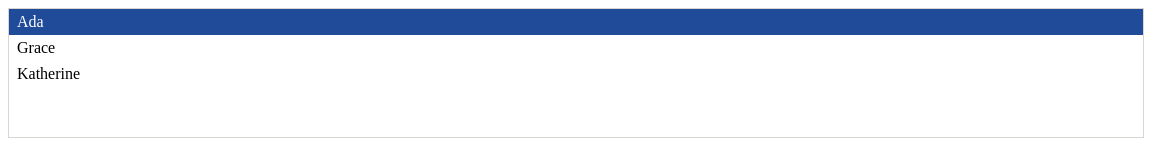
Test: ListBox › highlights the current row and moves with click and arrow keys
The image size is (1152, 160).
Click the option "Grace".
click(36, 48)  # box [17,39,55,56]
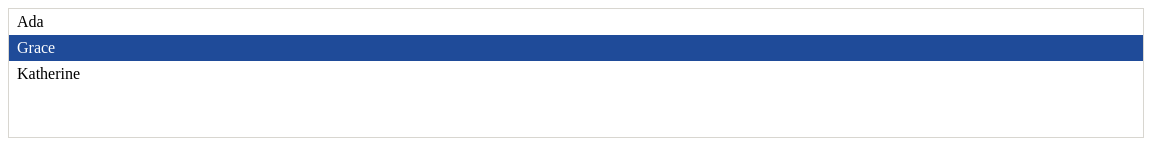
Result: the option "Grace" is selected at [9,35,1143,61]
Press ArrowDown in the list
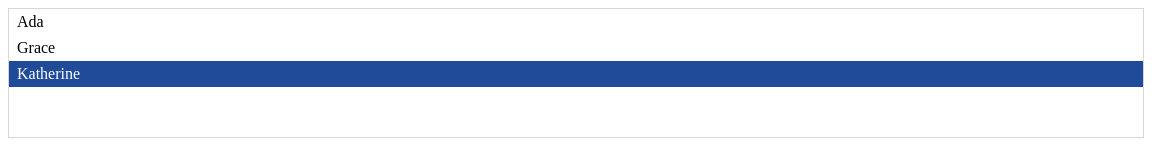
Result: the option "Katherine" is selected at [9,61,1143,87]
Press ArrowUp in the list
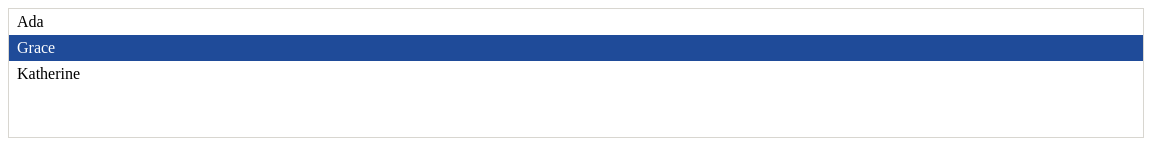
Result: the option "Grace" is selected at [9,35,1143,61]
